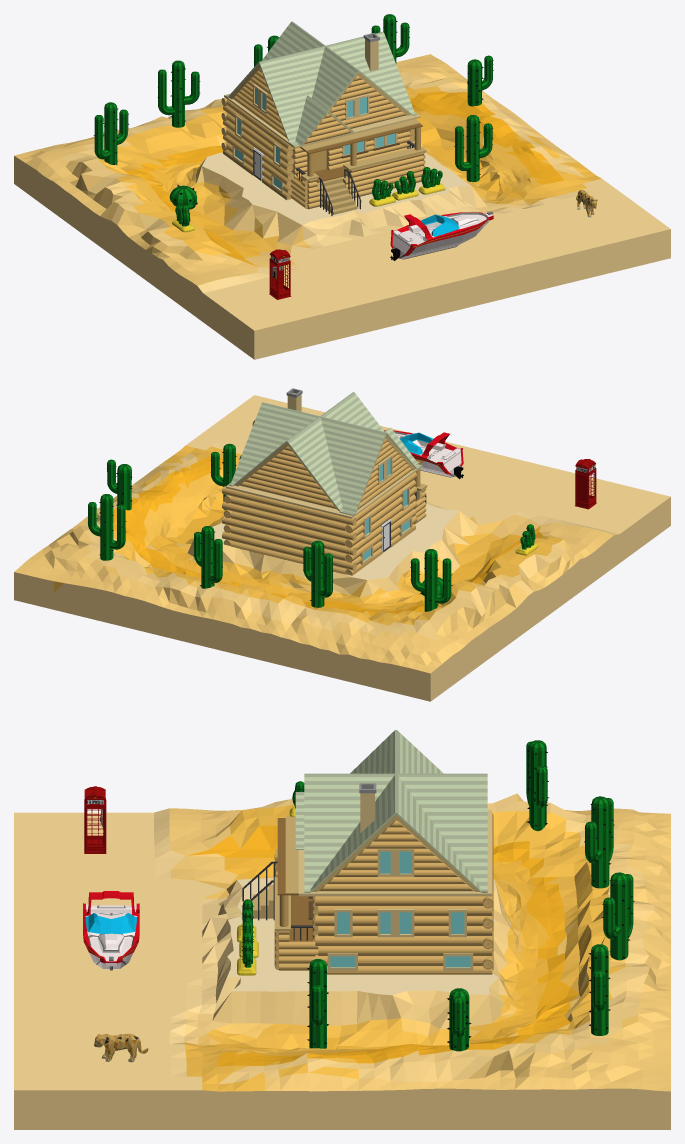
3 renders of one model, top to bottom at view 1: azimuth 30°, elevation 25°; view 2: azimuth 150°, elevation 25°; view 3: azimuth 270°, elevation 25°, orthographic. The views are drawn at different scales.
Parts seen in each view (by area): view 1: Cube.001, Cube.1516, VEHICLES_BOAT, Cylinder.037, Cylinder.044, Cylinder.045, OBJRANDOM_PHONEBOOTH, Cylinder.038, Cylinder.042, Cylinder.039, Cylinder.041, Sphere.023 (+1 smaller); view 2: Cube.001, Cube.1516, VEHICLES_BOAT, Cylinder.042, Cylinder.045, Cylinder.044, Cylinder.043, OBJRANDOM_PHONEBOOTH, Cylinder.038, Cylinder.037; view 3: Cube.001, Cube.1516, VEHICLES_BOAT, Cylinder.043, Cylinder.044, Cylinder.045, Cylinder.042, Cylinder.037, OBJRANDOM_PHONEBOOTH, Cylinder.038, ANIMAL_JAGUAR, Cylinder.041.
Boxes of the visible parts, left/top/right/bottom form: Cube.001: left=14, top=54, right=670, bottom=359; Cube.1516: left=221, top=21, right=426, bottom=215; VEHICLES_BOAT: left=390, top=211, right=493, bottom=260; Cylinder.037: left=454, top=115, right=493, bottom=182; Cylinder.044: left=157, top=60, right=200, bottom=127; Cylinder.045: left=93, top=102, right=129, bottom=164; OBJRANDOM_PHONEBOOTH: left=269, top=249, right=291, bottom=299; Cylinder.038: left=467, top=55, right=493, bottom=106; Cylinder.042: left=371, top=14, right=409, bottom=63; Cylinder.039: left=369, top=179, right=395, bottom=206; Cylinder.041: left=418, top=167, right=445, bottom=194; Sphere.023: left=169, top=184, right=197, bottom=209; Cube.001: left=14, top=395, right=670, bottom=701; Cube.1516: left=222, top=388, right=427, bottom=575; VEHICLES_BOAT: left=384, top=430, right=463, bottom=479; Cylinder.042: left=88, top=494, right=126, bottom=560; Cylinder.045: left=410, top=549, right=452, bottom=611; Cylinder.044: left=303, top=540, right=333, bottom=607; Cylinder.043: left=193, top=526, right=222, bottom=588; OBJRANDOM_PHONEBOOTH: left=575, top=459, right=596, bottom=509; Cylinder.038: left=107, top=459, right=131, bottom=510; Cylinder.037: left=210, top=443, right=241, bottom=510; Cube.001: left=14, top=793, right=670, bottom=1129; Cube.1516: left=242, top=730, right=493, bottom=974; VEHICLES_BOAT: left=83, top=891, right=139, bottom=970; Cylinder.043: left=602, top=872, right=634, bottom=960; Cylinder.044: left=584, top=796, right=614, bottom=888; Cylinder.045: left=526, top=740, right=548, bottom=831; Cylinder.042: left=588, top=944, right=610, bottom=1035; Cylinder.037: left=307, top=959, right=328, bottom=1048; OBJRANDOM_PHONEBOOTH: left=84, top=786, right=106, bottom=853; Cylinder.038: left=447, top=988, right=471, bottom=1051; ANIMAL_JAGUAR: left=94, top=1033, right=148, bottom=1062; Cylinder.041: left=237, top=932, right=256, bottom=975.
Bounding box in the file's own units: 4002 × 1728 × 4001.
Materials: 40 (3 with a texture image).
